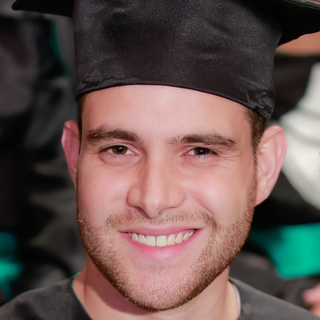eye: (178, 140, 226, 164), (95, 139, 142, 163)
